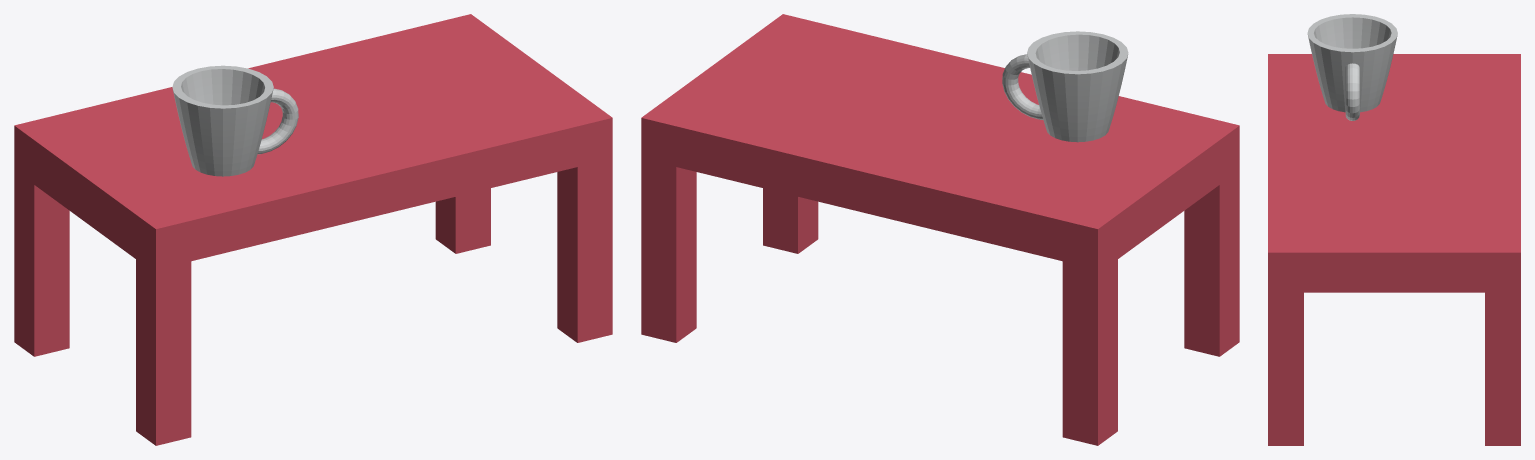
Rendered from CoffeeTableModel.glb.
3 renders of one model, left to right at view 1: azimuth 30°, elevation 25°; view 2: azimuth 150°, elevation 25°; view 3: azimuth 270°, elevation 25°, orthographic. The views are drawn at different scales.
Parts seen in each view (by area): view 1: Mesh_Mesh_head_geo.001_lambert2SG.001; view 2: Mesh_Mesh_head_geo.001_lambert2SG.001; view 3: Mesh_Mesh_head_geo.001_lambert2SG.001.
Part boxes in pixels (box(x1,y1,x2,y2)): Mesh_Mesh_head_geo.001_lambert2SG.001: box(14, 14, 612, 445); Mesh_Mesh_head_geo.001_lambert2SG.001: box(641, 14, 1239, 445); Mesh_Mesh_head_geo.001_lambert2SG.001: box(1268, 14, 1520, 445).
Bounding box in the file's own units: 119 × 74 × 64.23.
